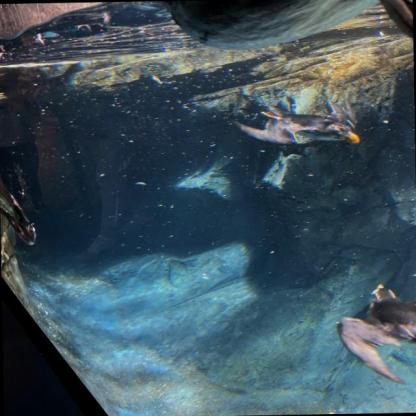puffin: (160, 0, 414, 61), (335, 281, 415, 387), (231, 97, 360, 147)
